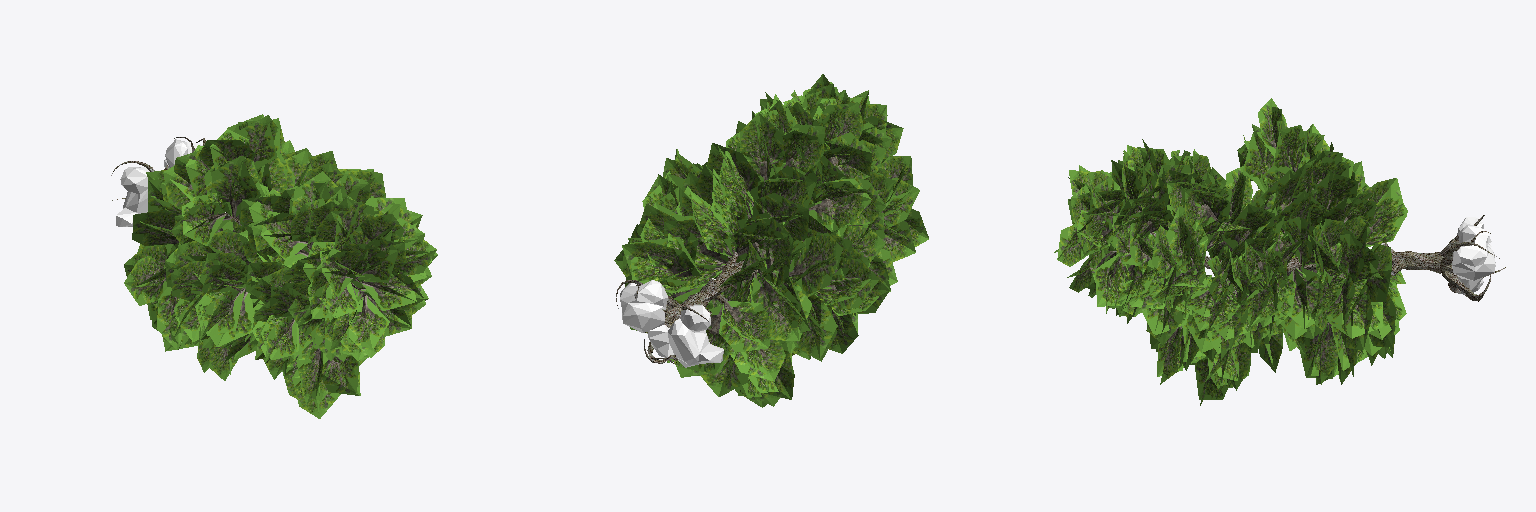
3 renders of one model, left to right at view 1: azimuth 30°, elevation 25°; view 2: azimuth 150°, elevation 25°; view 3: azimuth 270°, elevation 25°, orthographic.
Visible parts, largest first — view 1: Broadleaf_Low; view 2: Broadleaf_Low; view 3: Broadleaf_Low.
Part boxes in pixels (x1,y1,x2,y2): Broadleaf_Low: (111,114,437,418); Broadleaf_Low: (614,74,928,407); Broadleaf_Low: (1054,98,1505,405).
Bounding box in the file's own units: 28.6 × 30.03 × 44.27.
Materials: 4 (2 with a texture image).